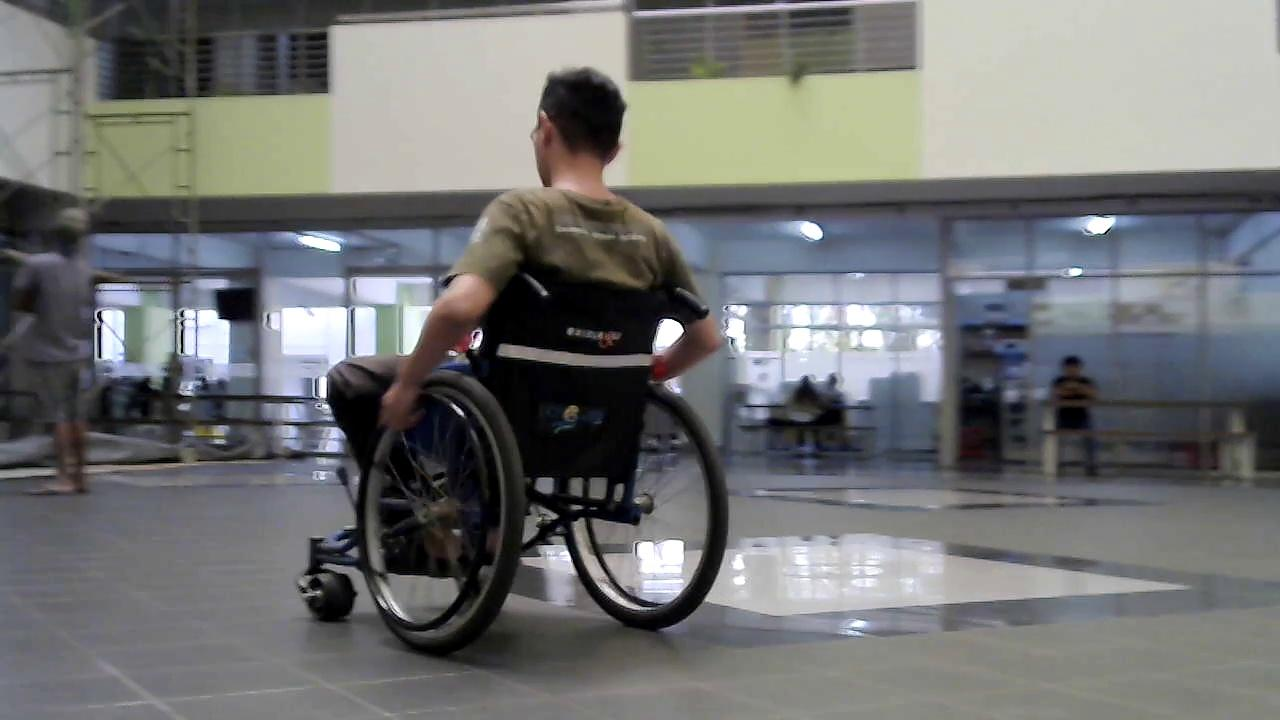person: (323, 64, 728, 494), (1048, 355, 1103, 480)
wheelchair: (270, 247, 764, 670)
